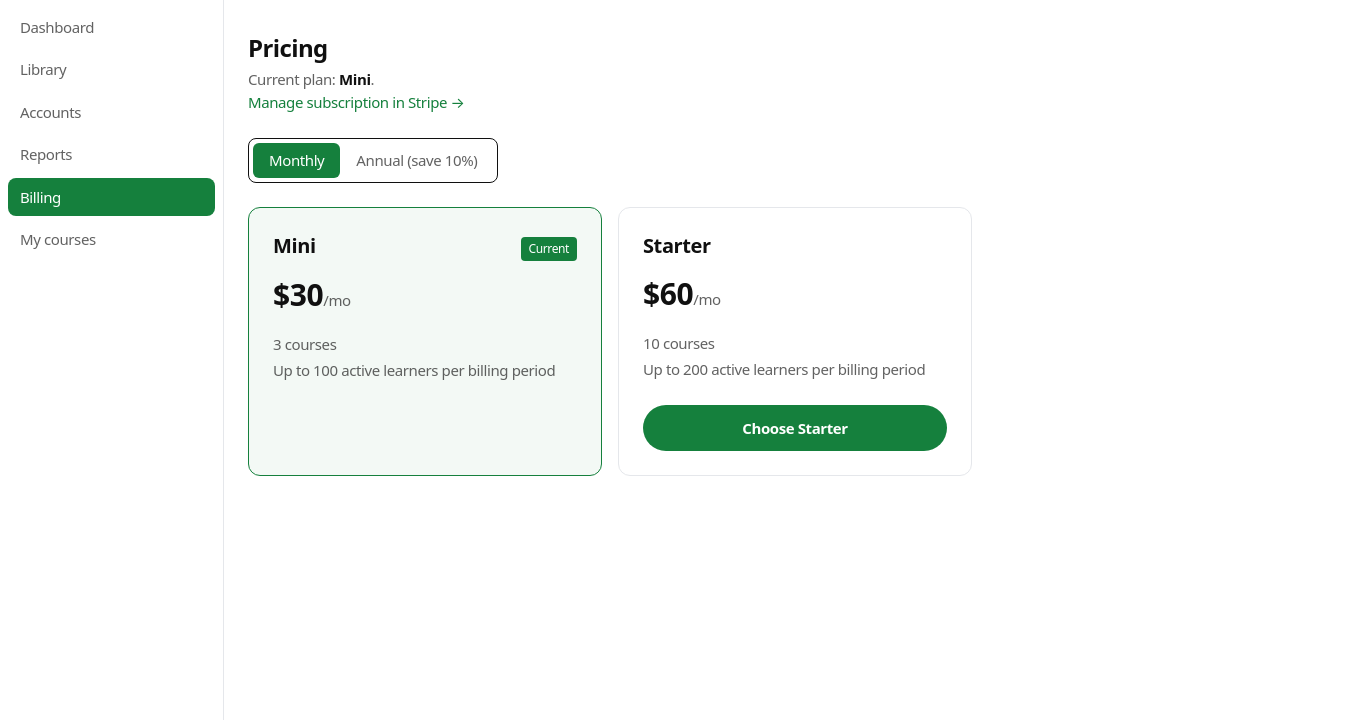
PricingPage plan change › names the no-refund rule on a downgrade and labels the button accordingly
The width and height of the screenshot is (1366, 720).
Step 1. Click the button "Choose Starter" → (795, 428), box [643, 405, 947, 451]
(page scrolled)
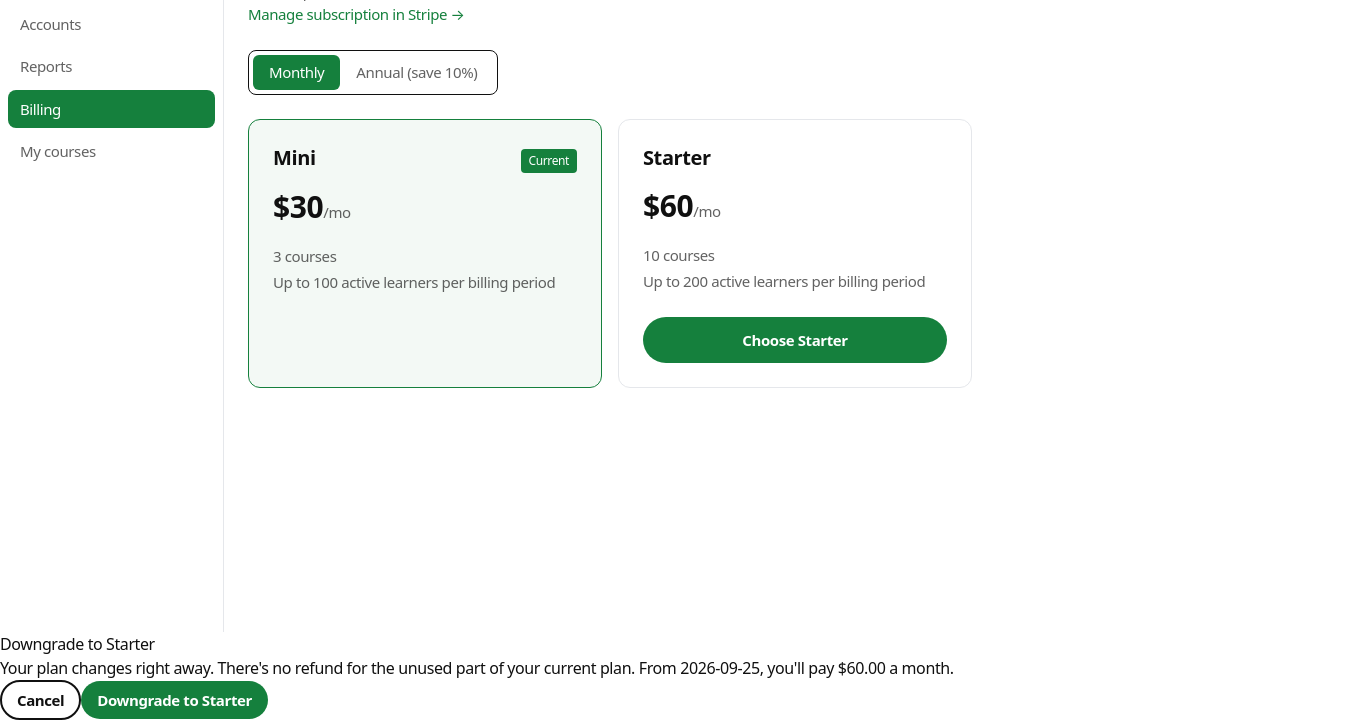
Result: the button "Downgrade to Starter" is shown at [81, 681, 268, 719]
